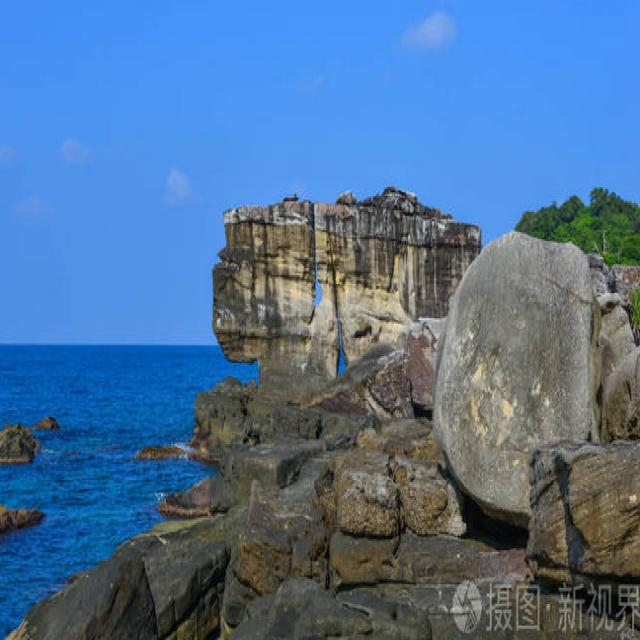reef: (202, 214, 484, 486), (0, 379, 75, 534)
